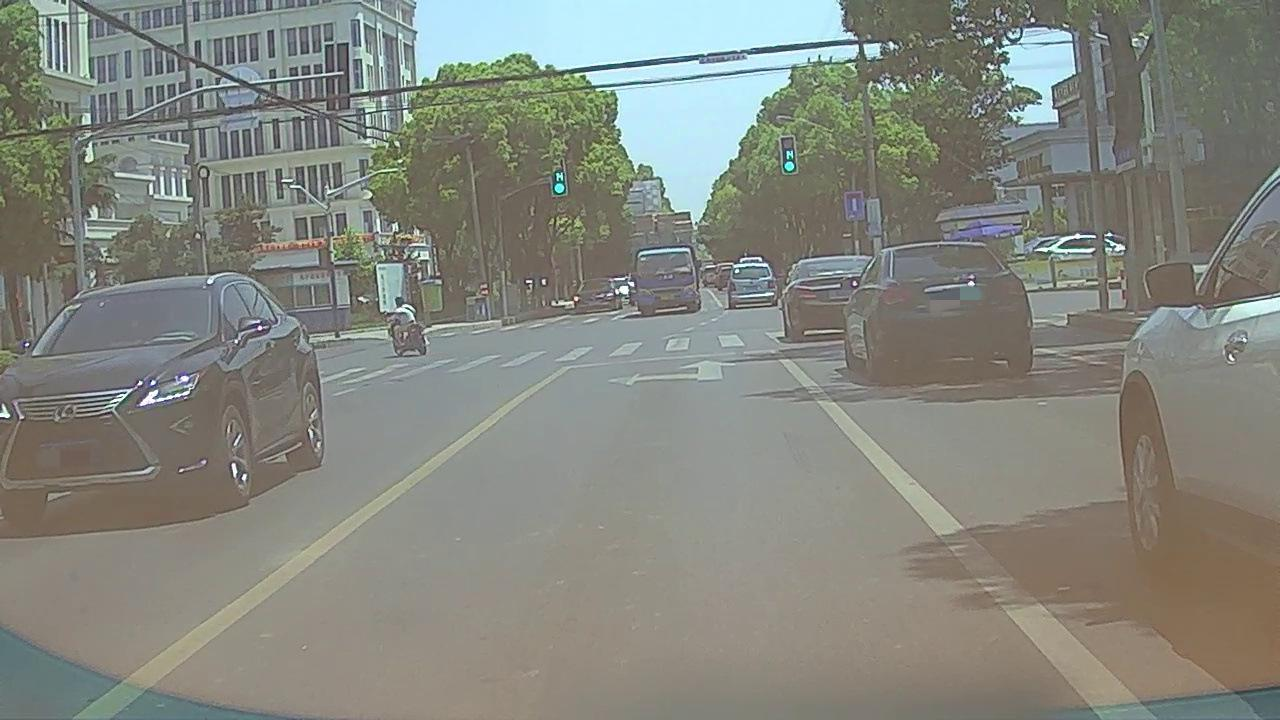traffic_light: (550, 159, 567, 197), (781, 138, 796, 173)
